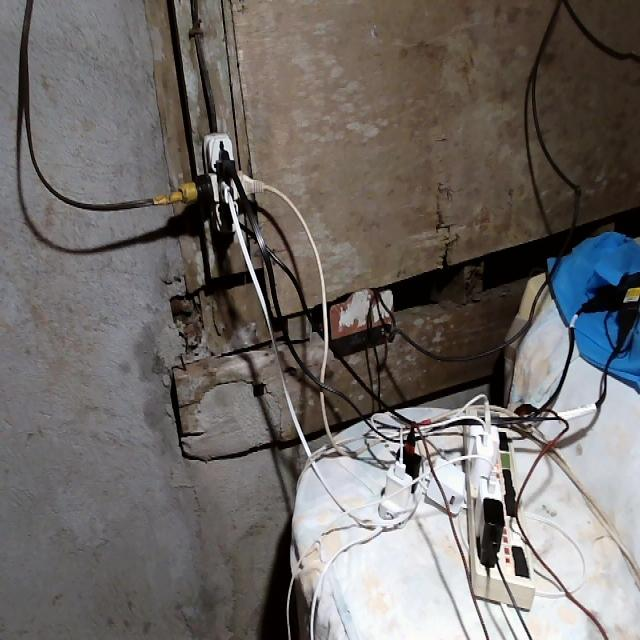-: (167, 132, 268, 232)
